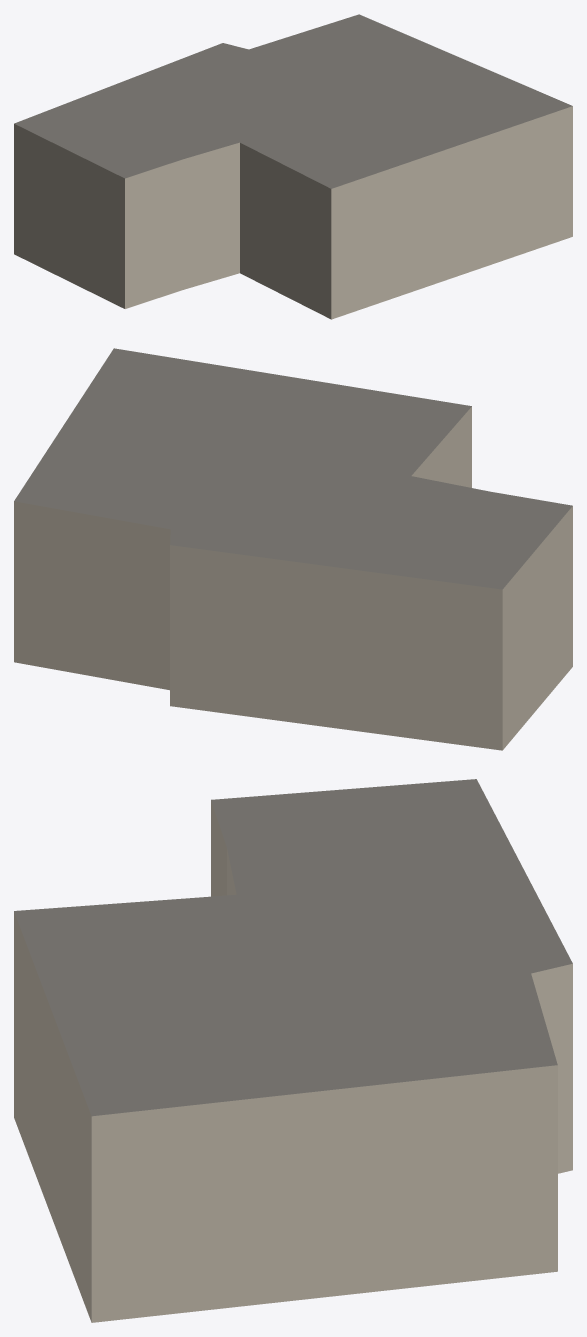
3 renders of one model, top to bottom at view 1: azimuth 30°, elevation 25°; view 2: azimuth 150°, elevation 25°; view 3: azimuth 270°, elevation 25°, orthographic. The views are drawn at different scales.
Visible parts, largest first — view 1: HP-w1512911273; view 2: HP-w1512911273; view 3: HP-w1512911273.
Part boxes in pixels (x1,y1,x2,y2): HP-w1512911273: (14,14,572,319); HP-w1512911273: (14,348,572,750); HP-w1512911273: (14,779,572,1322).
Size of the model in its own units: 63.02 by 18 by 44.14.
